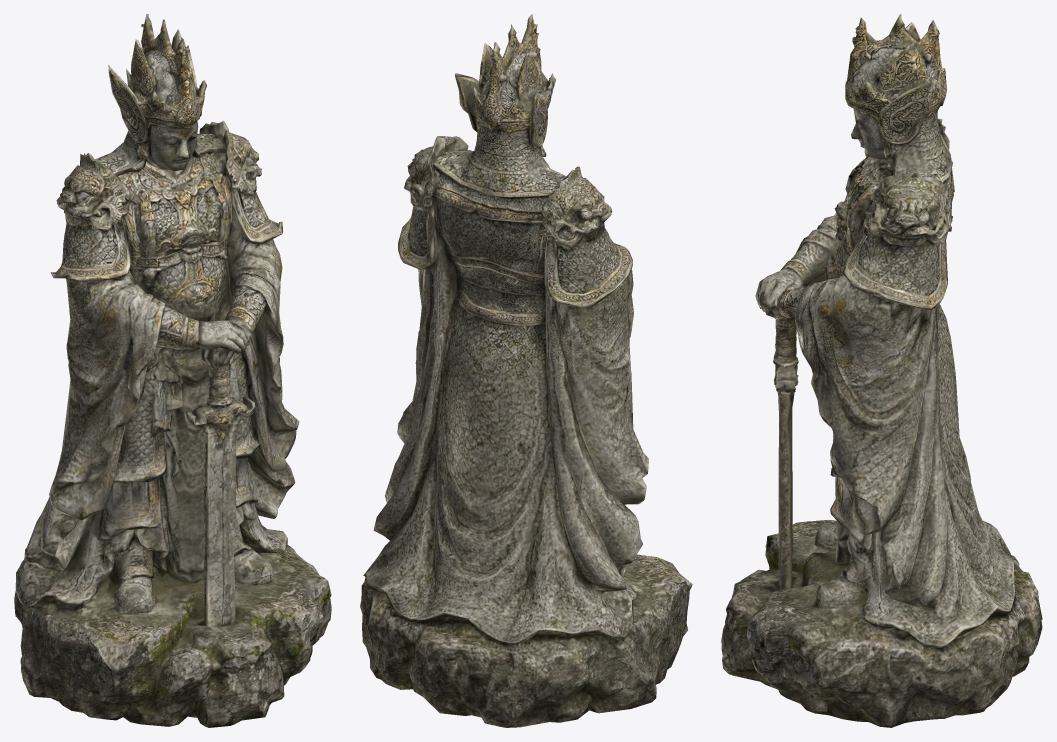
File: guardian_a.lod1.glb
3 renders of one model, left to right at view 1: azimuth 30°, elevation 25°; view 2: azimuth 150°, elevation 25°; view 3: azimuth 270°, elevation 25°, orthographic.
Visible parts, largest first — view 1: clean; view 2: clean; view 3: clean.
Part boxes in pixels (x1,y1,x2,y2): clean: [14, 14, 331, 727]; clean: [360, 14, 692, 727]; clean: [721, 14, 1042, 727].
Size of the model in its own units: 67.43 by 150 by 66.91.
Materials: 1 (1 with a texture image).
